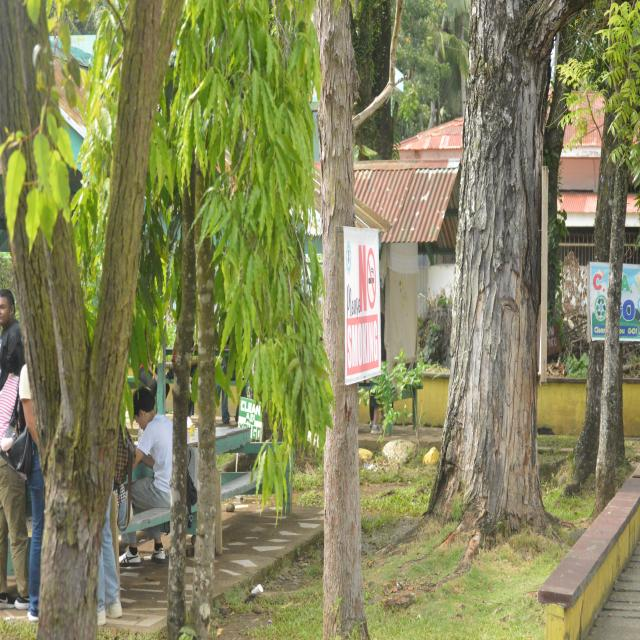person: (131, 388, 172, 511)
